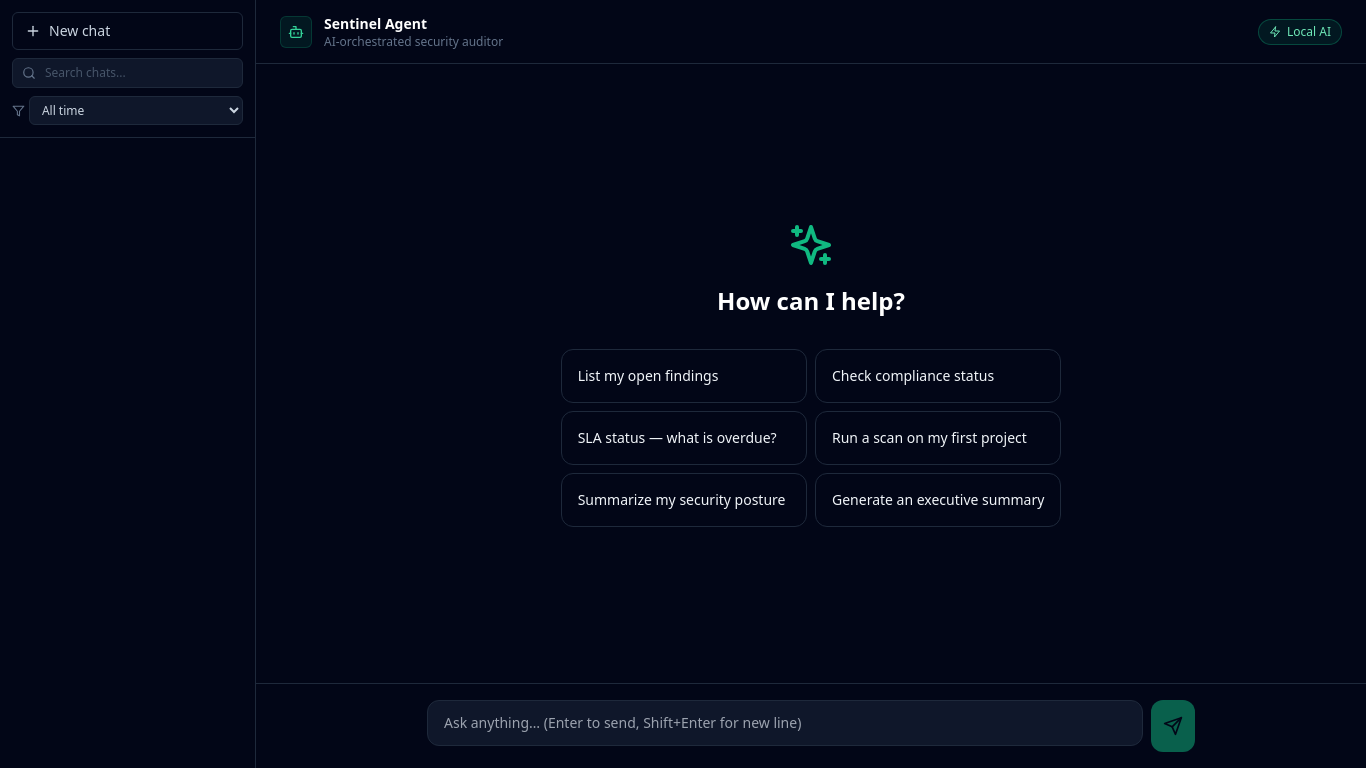
Test: Chat integration flow › renders assistant response from gateway when agent returns null
Click the button "Check compliance status" at (938,376), box [815,348,1061,402]
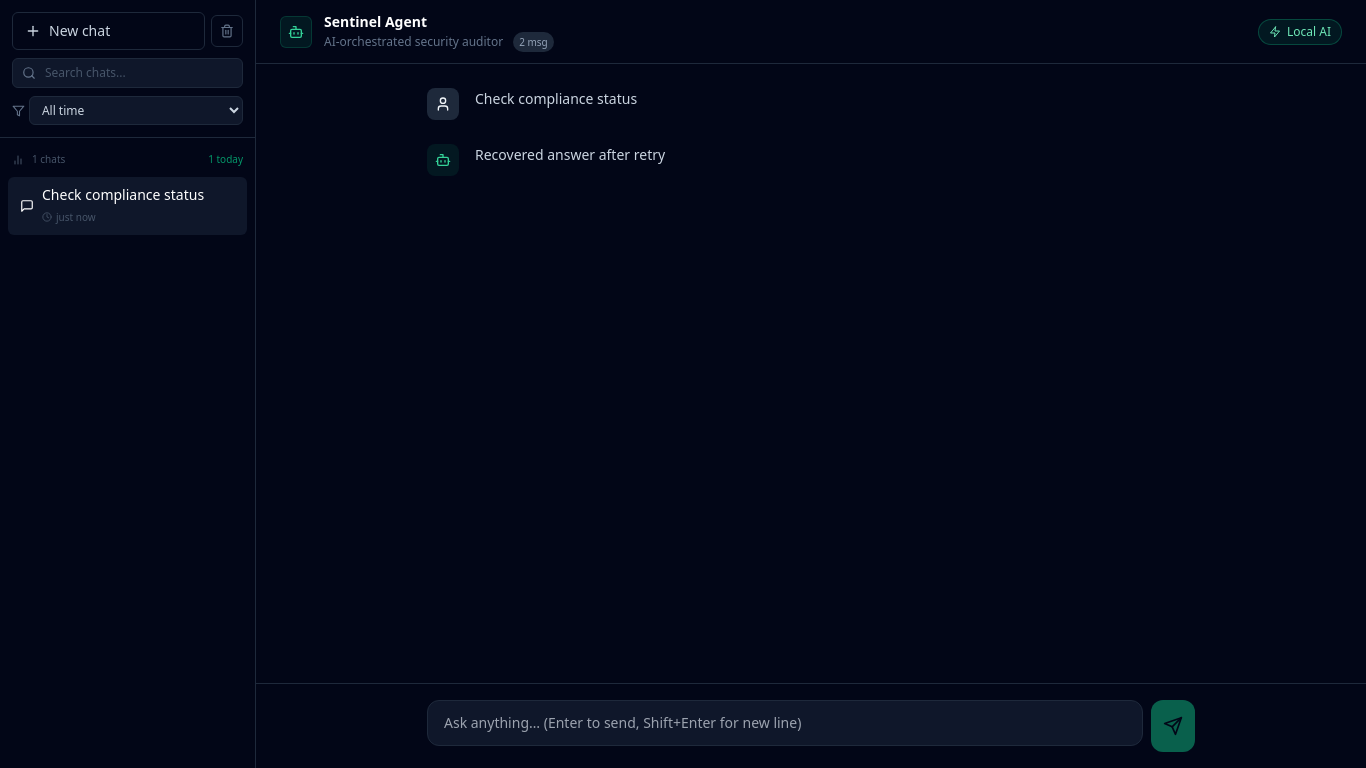
Expected: the text "Recovered answer after retry" is shown, [475,145,665,164]
